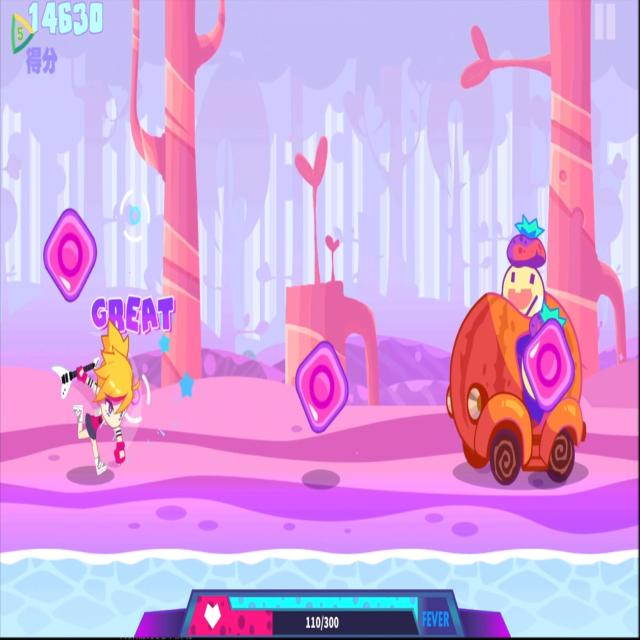kuai: (293, 337, 352, 448), (40, 206, 102, 308)
